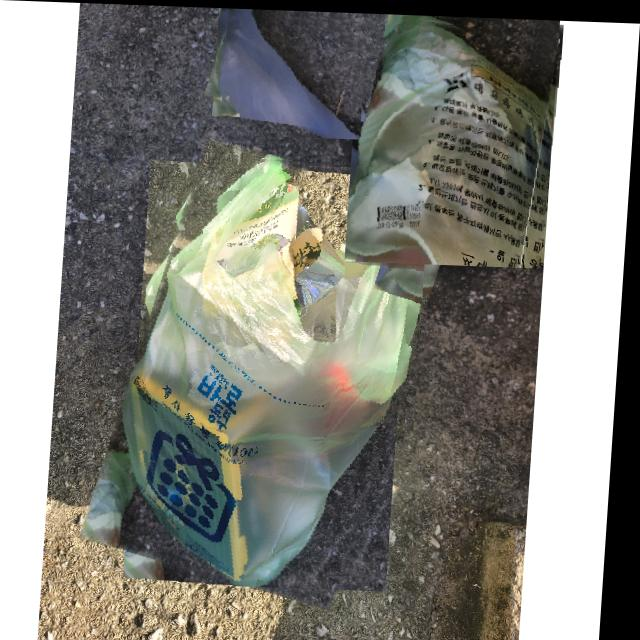general_trashbag: (129, 157, 429, 585), (348, 15, 551, 264), (226, 7, 361, 136)
